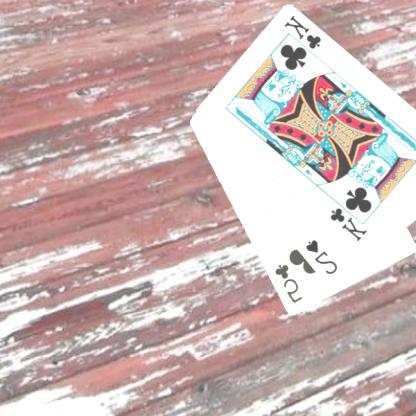2S: (304, 237, 341, 277)
5C: (273, 261, 305, 305)
KC: (283, 13, 325, 60), (329, 197, 370, 243)
